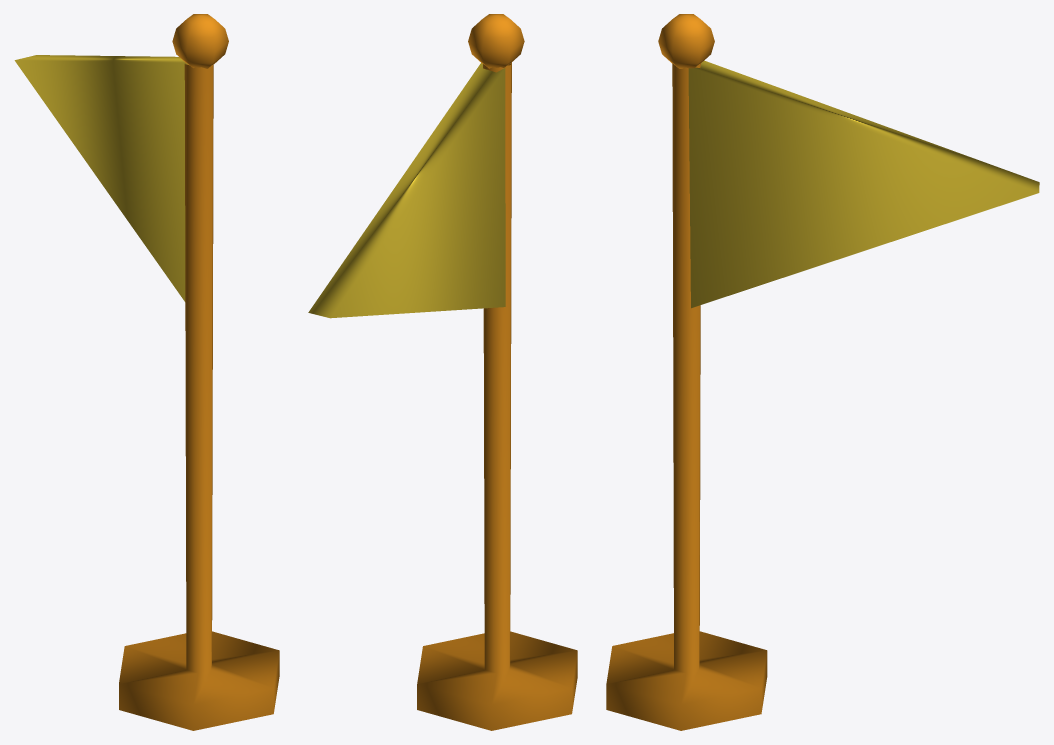
The model's file is FlagModel.fbx.
The picture shows the model from 3 angles, left to right: view 1: azimuth 30°, elevation 25°; view 2: azimuth 150°, elevation 25°; view 3: azimuth 270°, elevation 25°; orthographic projection.
Visible parts, largest first — view 1: PlacaAtencao.001; view 2: PlacaAtencao.001; view 3: PlacaAtencao.001.
Boxes of the visible parts, <box> form: PlacaAtencao.001: <box>14,14,279,730</box>; PlacaAtencao.001: <box>308,14,577,730</box>; PlacaAtencao.001: <box>606,14,1039,730</box>.
Bounding box in the file's own units: 224 × 935 × 541.
